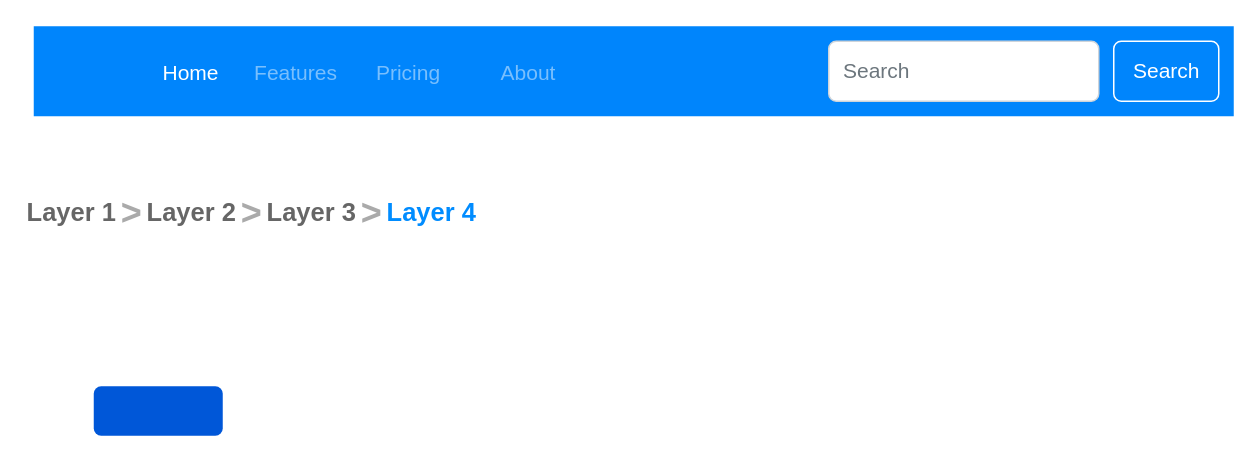
This 1260x461 diagram has some shape labels left out. The centre of each missing label's shape, as x and y in pixels:
Call: the point at 157,410
Navbar: the point at 633,71
